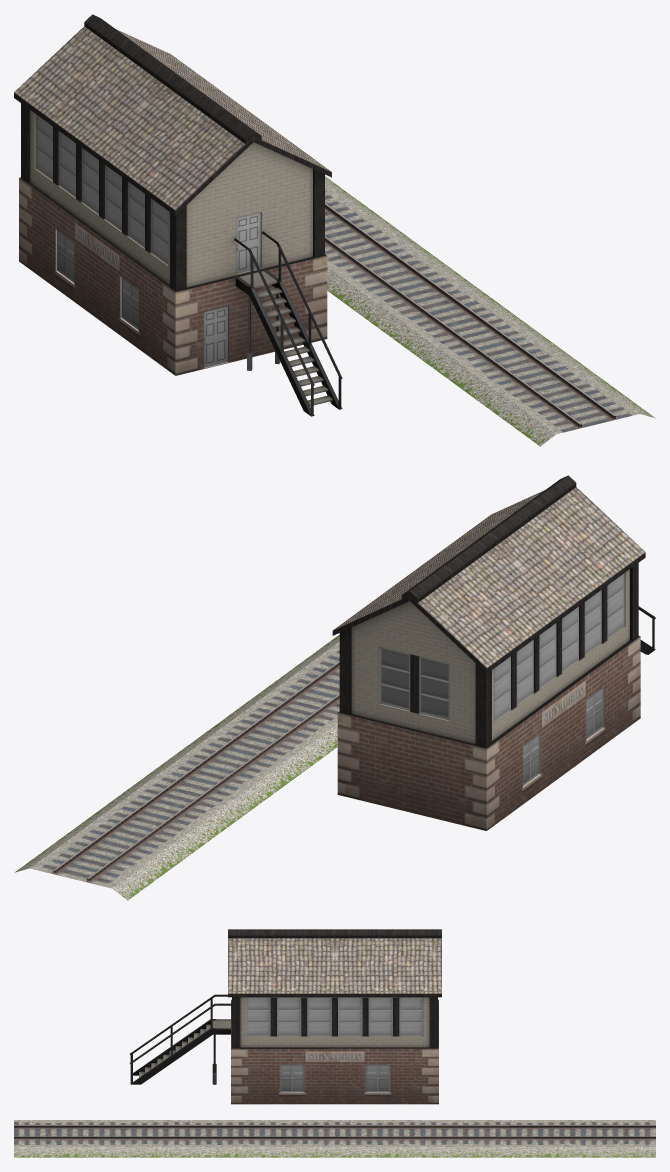
Rendered from SignalBox2.fbx.
3 renders of one model, top to bottom at view 1: azimuth 30°, elevation 25°; view 2: azimuth 150°, elevation 25°; view 3: azimuth 270°, elevation 25°, orthographic. The views are drawn at different scales.
Visible parts, largest first — view 1: U3DMesh; view 2: U3DMesh; view 3: U3DMesh.
Boxes of the visible parts, left/top/right/bottom form: U3DMesh: left=14, top=14, right=655, bottom=446; U3DMesh: left=14, top=475, right=655, bottom=900; U3DMesh: left=14, top=929, right=655, bottom=1157.
Size of the model in its own units: 12.21 by 8.28 by 32.
